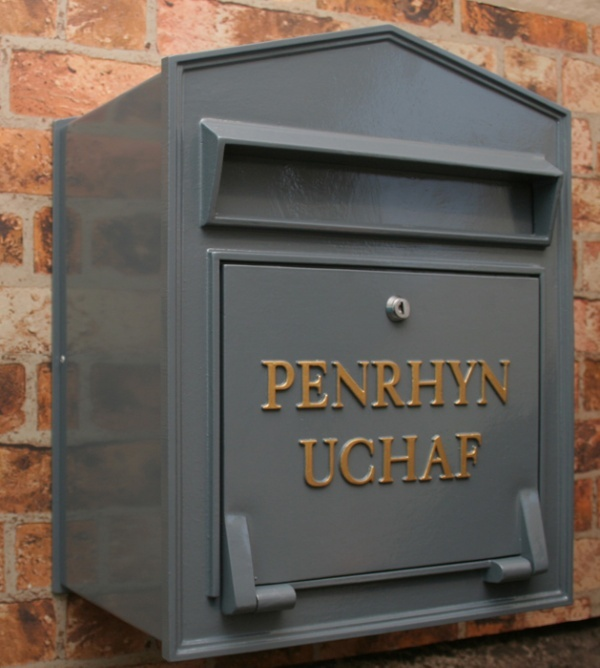text: (497, 358, 513, 414), (305, 430, 320, 489), (321, 430, 336, 489), (337, 430, 352, 489), (353, 430, 368, 489), (369, 430, 384, 489), (385, 430, 400, 489), (401, 430, 416, 489), (417, 430, 432, 489), (433, 430, 448, 489), (449, 430, 464, 489), (465, 430, 480, 489), (273, 358, 288, 414), (289, 358, 304, 414), (305, 358, 320, 414), (321, 358, 336, 414), (337, 358, 352, 414), (353, 358, 368, 414), (369, 358, 384, 414), (385, 358, 400, 414), (401, 358, 416, 414), (417, 358, 432, 414), (433, 358, 448, 414), (449, 358, 464, 414), (465, 358, 480, 414), (481, 358, 496, 414), (261, 358, 272, 414), (481, 430, 488, 489), (299, 430, 304, 489)
